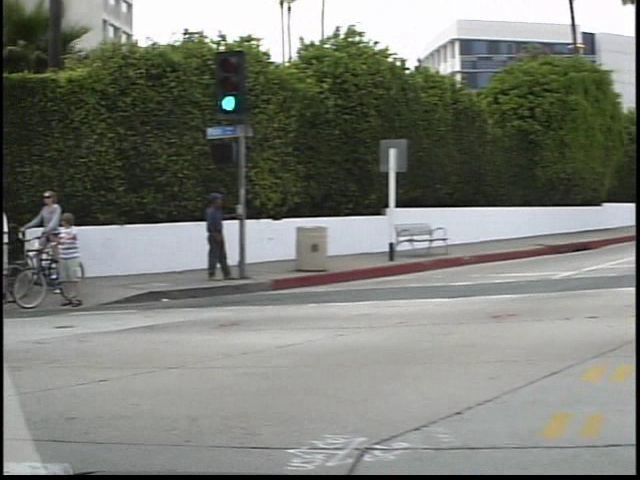person: (3, 179, 86, 307), (192, 187, 236, 290)
